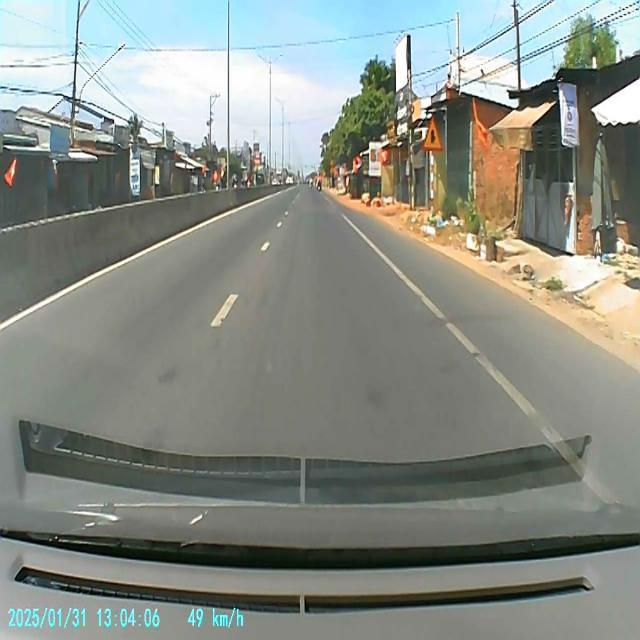207-giao-nhau-voi-duong-khong-uu-tien: (422, 115, 442, 151)
